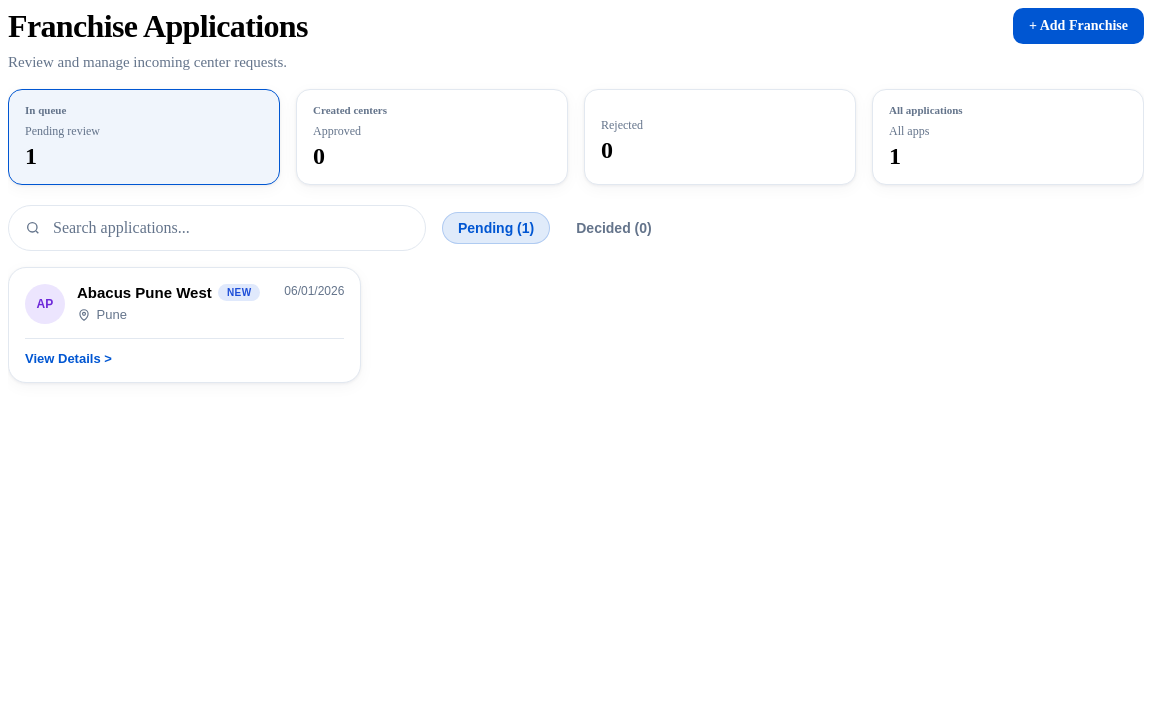
Test: FranchiseApplicationsPage › regression_franchise_apps_mobile_short_tabs_and_fab
Expected: the tab "Pending (1)" is shown, [442,212,550,244]
Click the button "AP Abacus Pune West NEW Pune 06/01/2026 View Details >" at (45, 304), box [8,267,361,383]
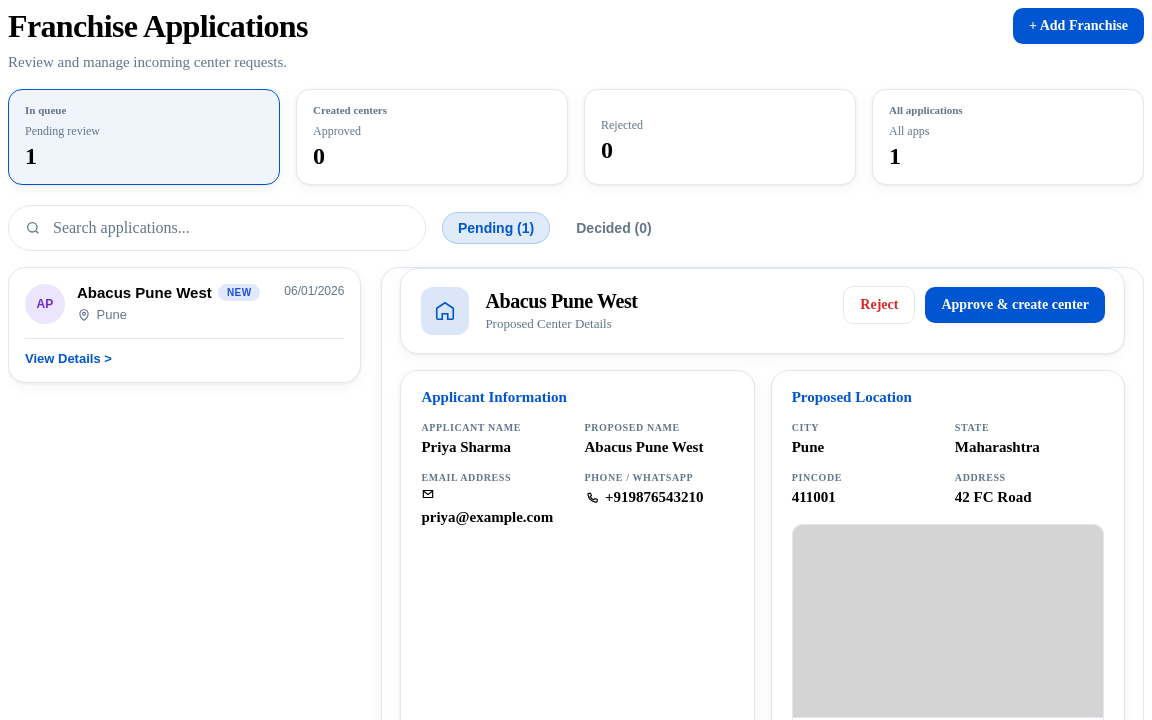
Expected: the button "Approve & create center" is shown, [925,287,1105,323]
